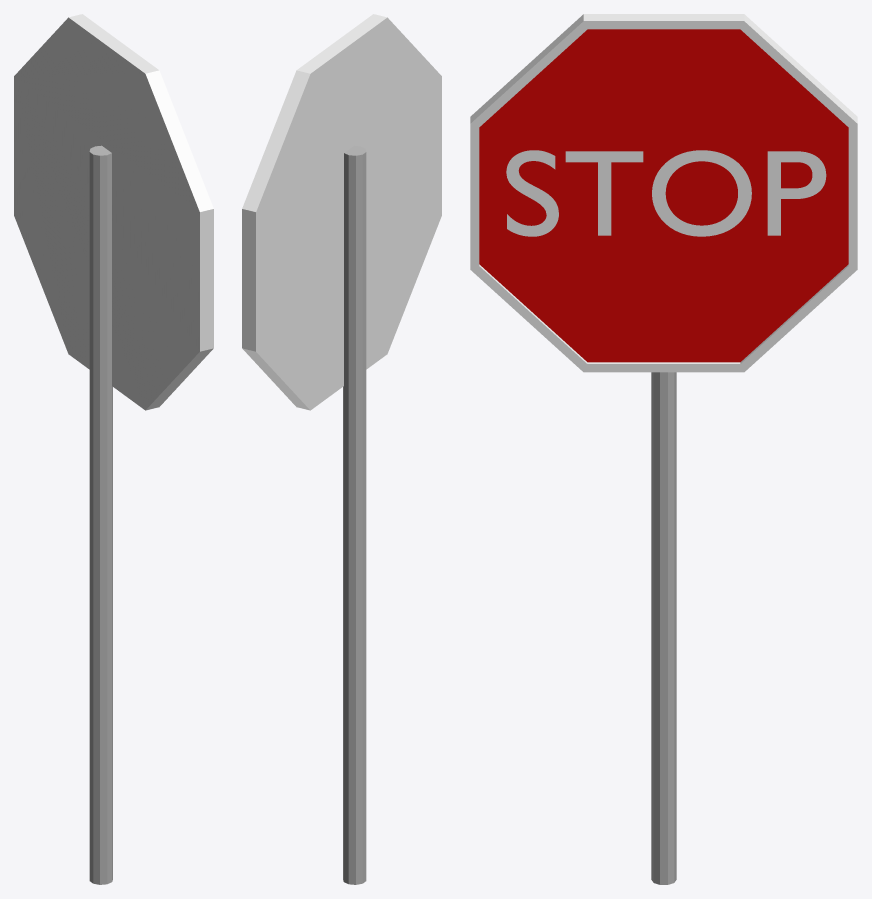
Rendered from Stop.fbx.
The picture shows the model from 3 angles, left to right: view 1: azimuth 30°, elevation 25°; view 2: azimuth 150°, elevation 25°; view 3: azimuth 270°, elevation 25°; orthographic projection. The views are drawn at different scales.
Visible parts, largest first — view 1: Cylinder.001; view 2: Cylinder.001; view 3: Cylinder.001.
Part boxes in pixels (x1,y1,x2,y2): Cylinder.001: (14, 14, 213, 884); Cylinder.001: (242, 14, 441, 884); Cylinder.001: (470, 14, 857, 884).
Size of the model in its own units: 8.51 by 228 by 92.39.
